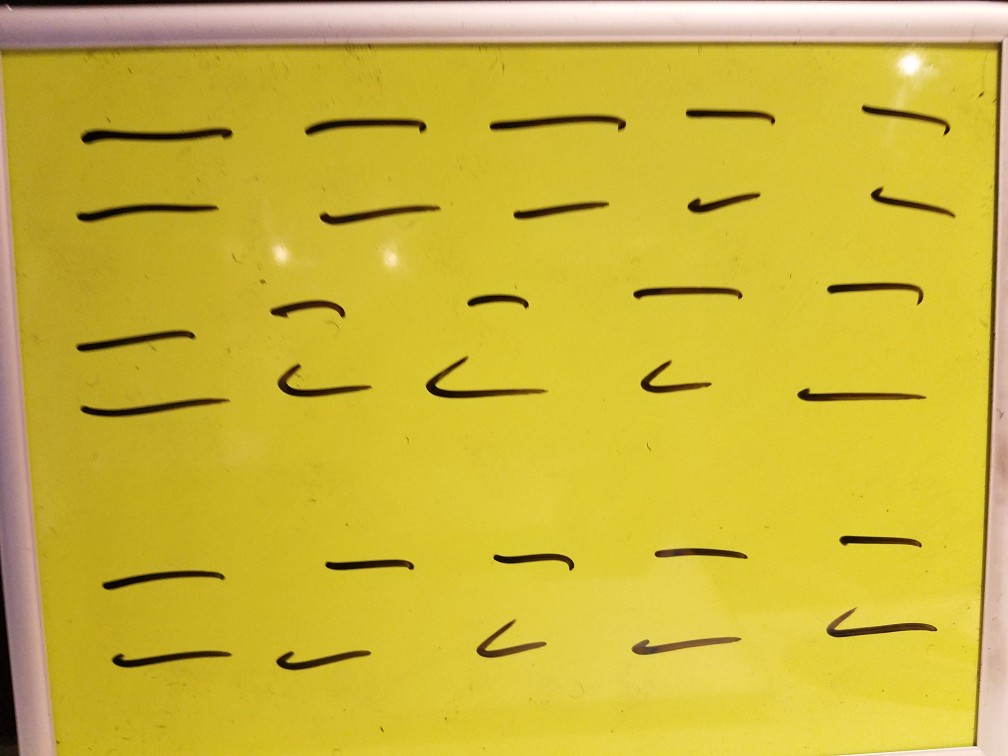=: (787, 247, 975, 428), (69, 529, 257, 706), (266, 524, 436, 707), (393, 270, 583, 433), (594, 516, 773, 681), (51, 97, 242, 244), (281, 88, 454, 244), (604, 268, 769, 422), (813, 507, 971, 659), (479, 93, 641, 241), (58, 309, 228, 441), (457, 516, 582, 688), (840, 87, 977, 235), (246, 285, 379, 424), (669, 86, 793, 233)
